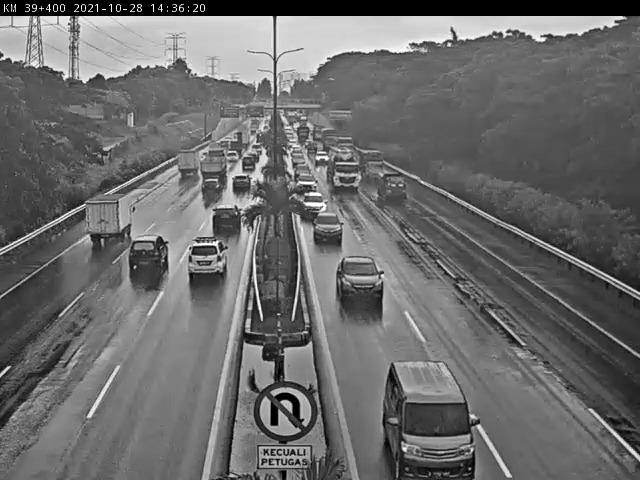big truck: (325, 143, 360, 191), (199, 148, 229, 178)
car: (382, 359, 480, 480), (333, 253, 386, 305), (185, 235, 229, 282), (128, 233, 170, 274), (208, 203, 244, 237), (310, 208, 344, 239), (300, 185, 326, 217), (230, 172, 252, 194), (200, 176, 223, 196), (295, 172, 317, 192), (237, 154, 257, 173)
small truck: (86, 191, 134, 240), (376, 166, 410, 203), (174, 148, 203, 182)
